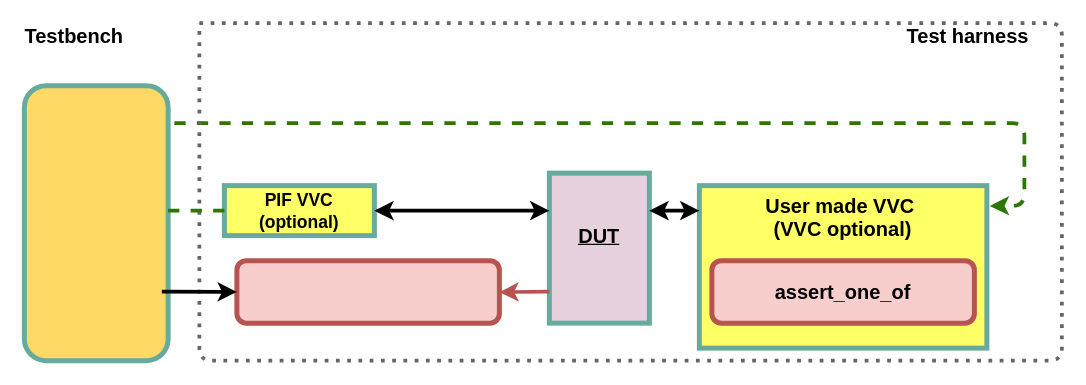
Some shapes in this 1086 by 385 pixel diagram are drawn without their labels. The shapes that lost their labels are listed below. From the top down, each one's centre as x and y in pixels, then its label:
At (95,222): "Sequencer".
At (367,291): "assert_value_in_range".
